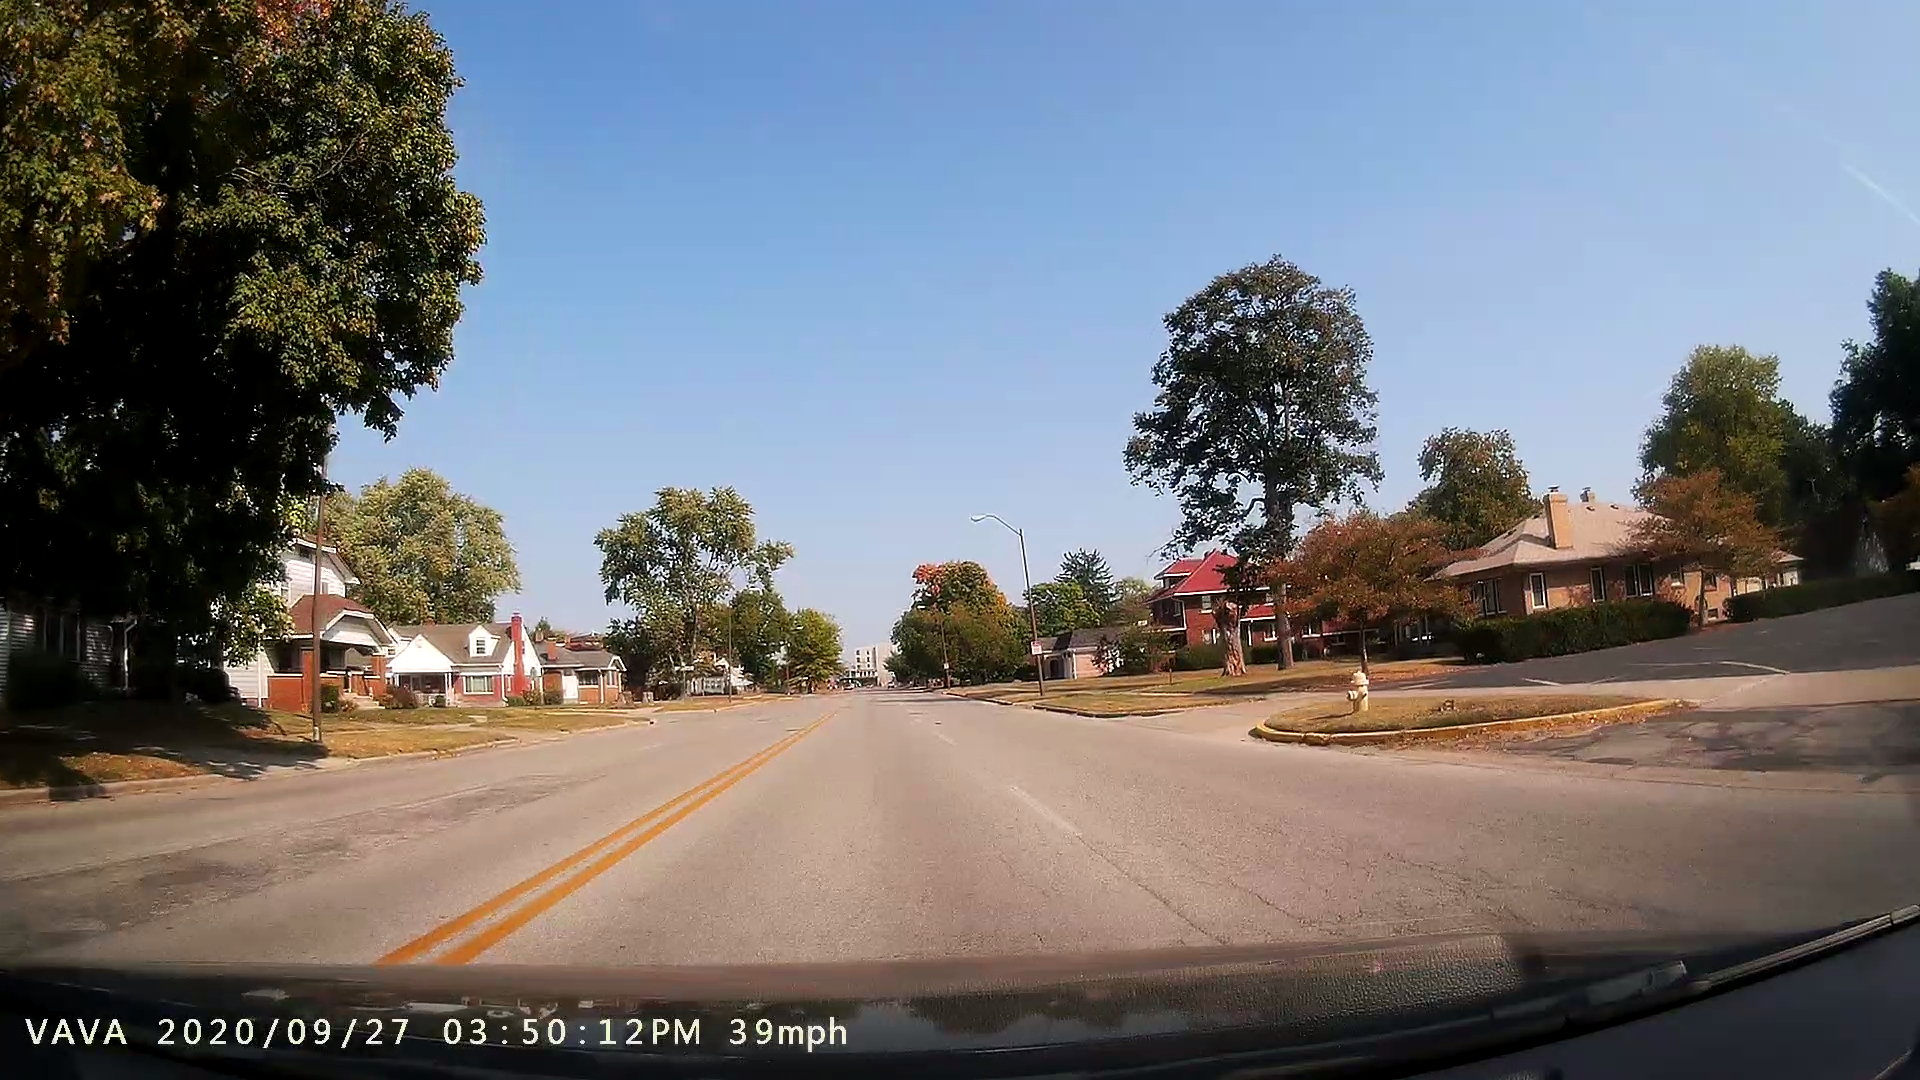fire_hydrant: (1328, 657, 1387, 729)
